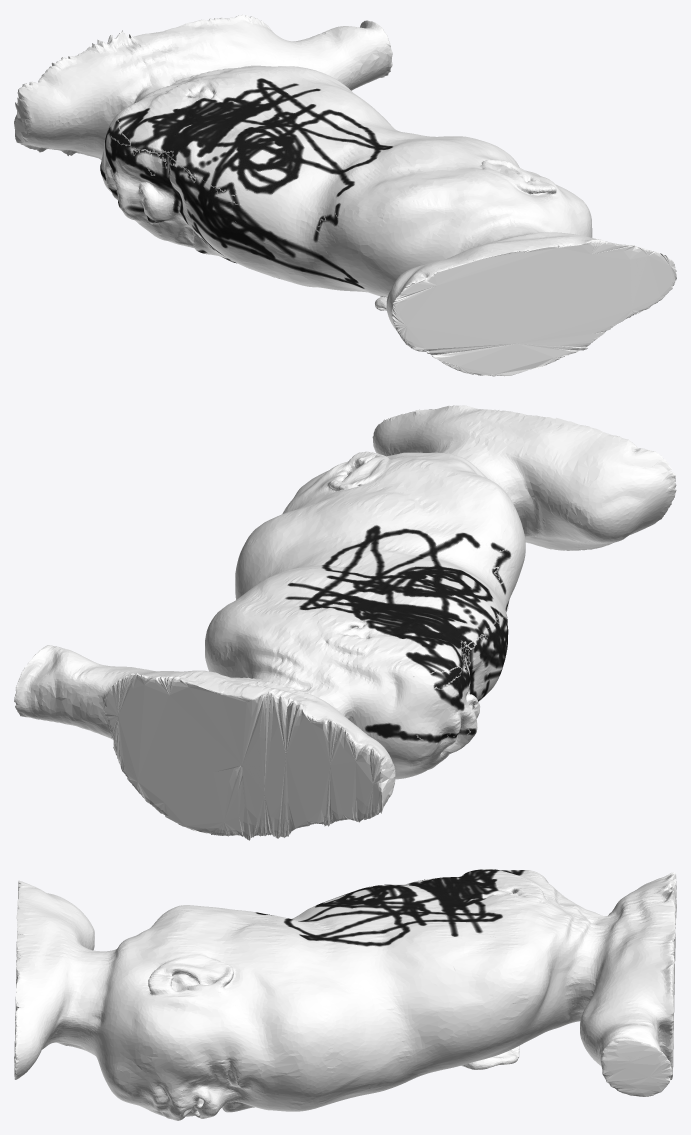
Rendered from model_skin_textured2.glb.
3 views of the same model, one above another, from view 1: azimuth 30°, elevation 25°; view 2: azimuth 150°, elevation 25°; view 3: azimuth 270°, elevation 25° (orthographic). The views are drawn at different scales.
Parts seen in each view (by area): view 1: Skin; view 2: Skin; view 3: Skin.
Part boxes in pixels (x1,y1,x2,y2): Skin: (14, 14, 676, 376); Skin: (14, 405, 676, 840); Skin: (14, 869, 676, 1120).
Size of the model in its own units: 237 by 104 by 393.
Materials: 1 (1 with a texture image).
